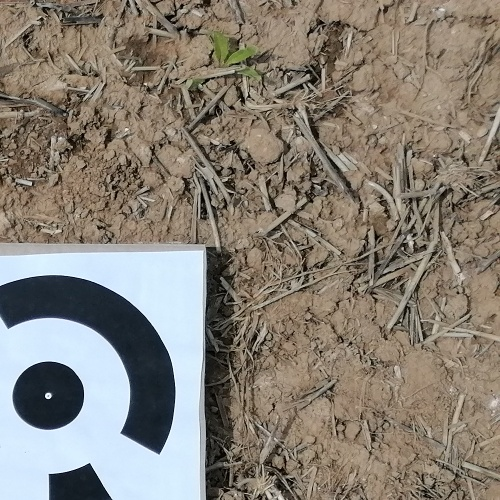beet: (212, 31, 263, 81)
